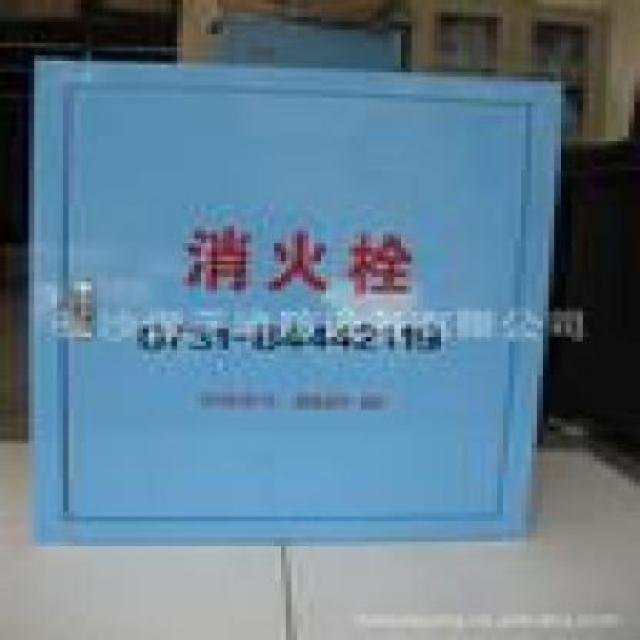firehydrant: (25, 54, 567, 547)
